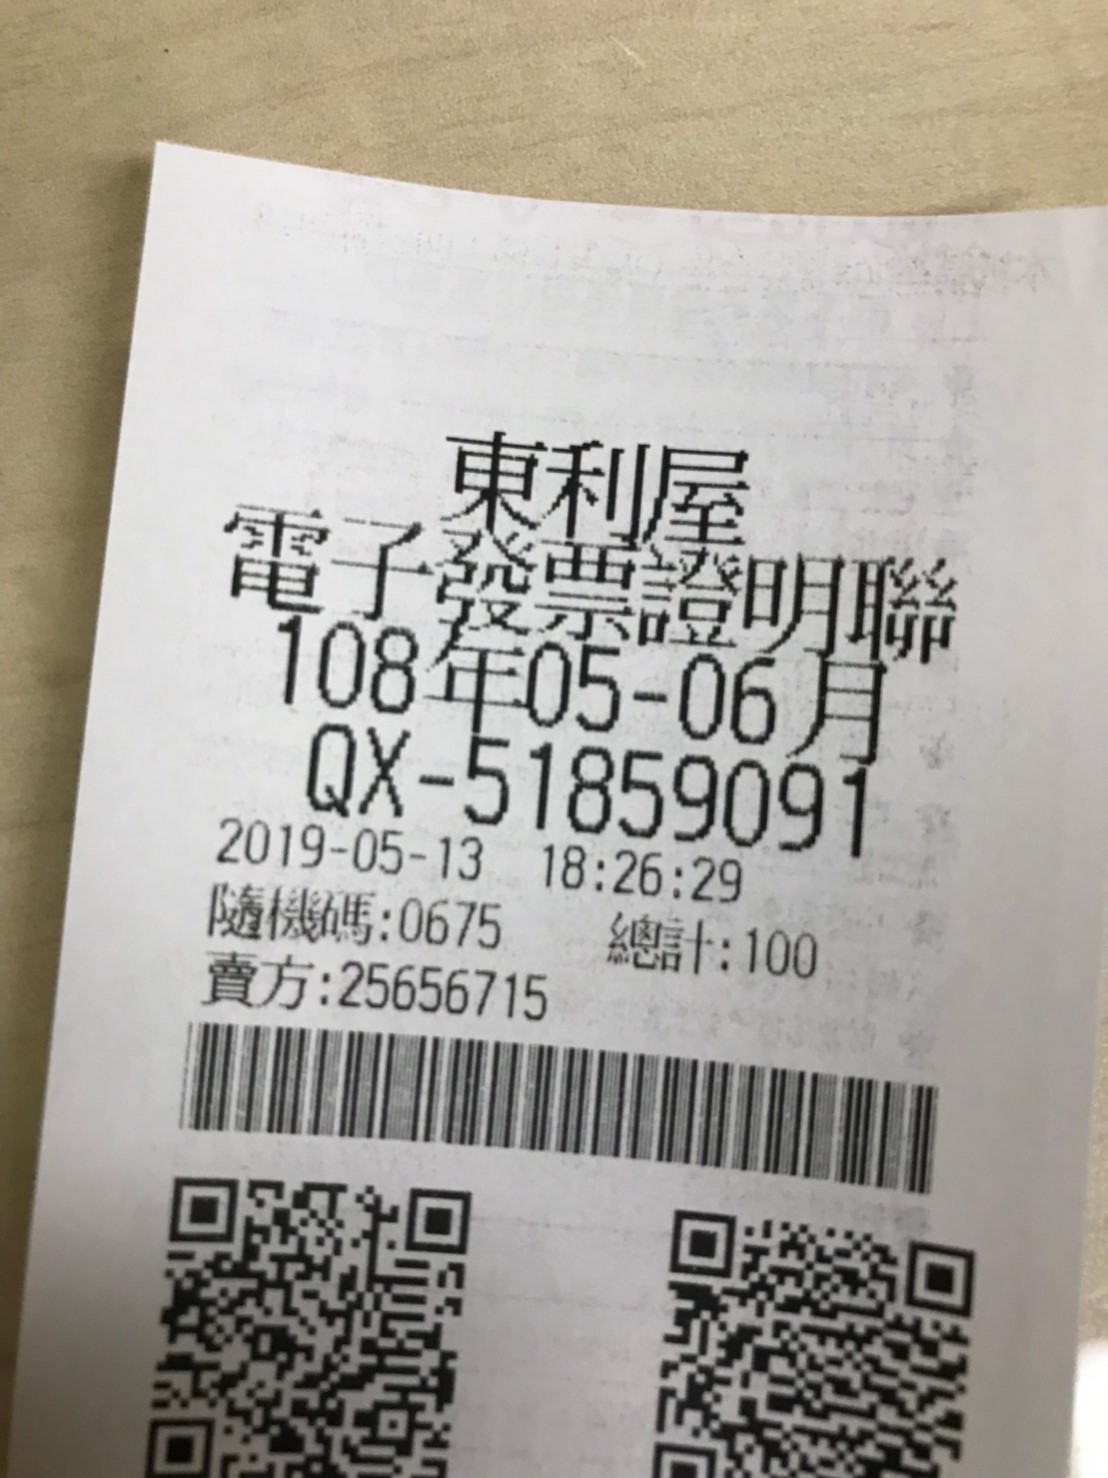Date_New: (272, 607, 887, 770)
Number_New: (463, 731, 871, 871)
